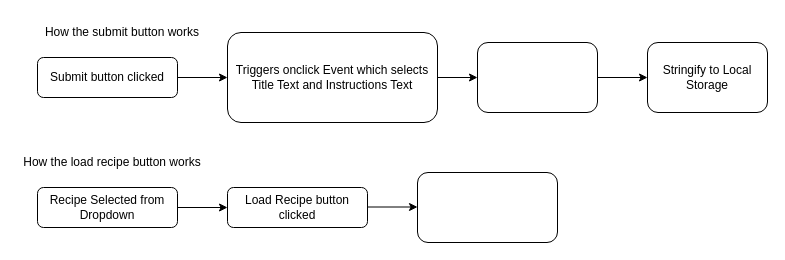
Some shapes in this 785 by 260 pixel diagram are drawn without their labels. Here are the shapes that lost their labels. From the top down, the centre of each, then its label:
At [537,77]: "Create JSON object".
At [487,207]: "Triggers onclick Event which loads recipe from local storage".
